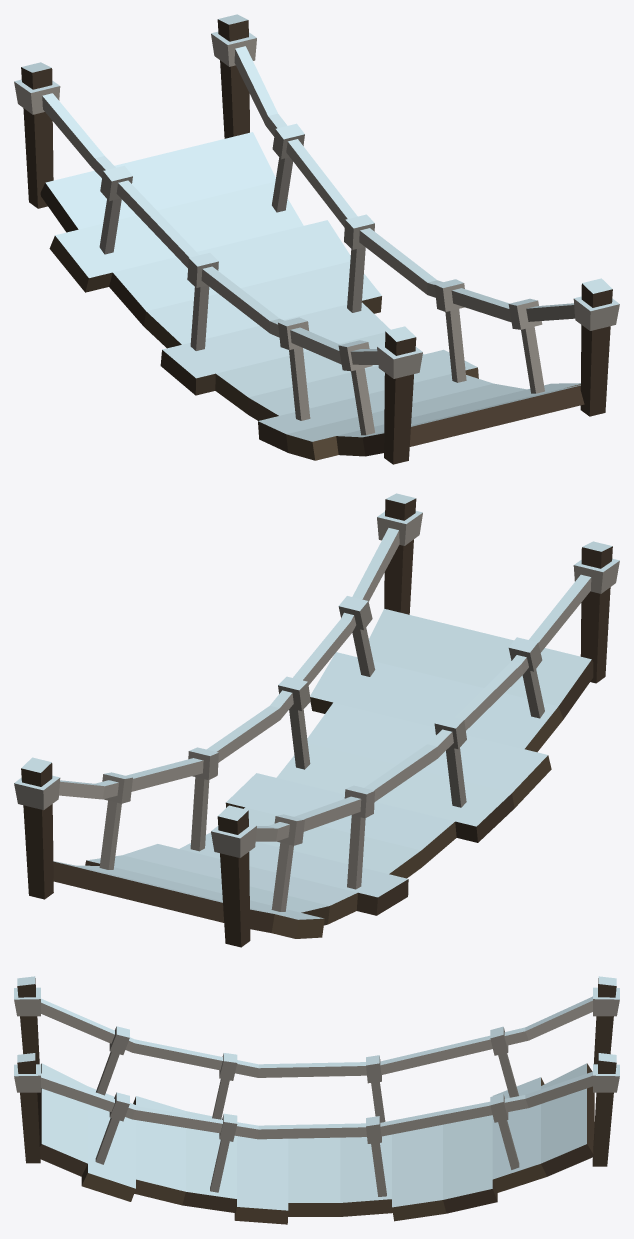
File: SM_Prop_Generic_Bridge_02_Snow.fbx
The picture shows the model from 3 angles, top to bottom: view 1: azimuth 30°, elevation 25°; view 2: azimuth 150°, elevation 25°; view 3: azimuth 270°, elevation 25°; orthographic projection. The views are drawn at different scales.
Parts seen in each view (by area): view 1: SM_Prop_Generic_Bridge_02_Snow; view 2: SM_Prop_Generic_Bridge_02_Snow; view 3: SM_Prop_Generic_Bridge_02_Snow.
Boxes of the visible parts, x1,y1,x2,y2 form: SM_Prop_Generic_Bridge_02_Snow: (14,14,619,464); SM_Prop_Generic_Bridge_02_Snow: (14,493,619,947); SM_Prop_Generic_Bridge_02_Snow: (14,976,619,1224).
Bounding box in the file's own units: 221 × 174 × 584.
1 material, 1 textured.
